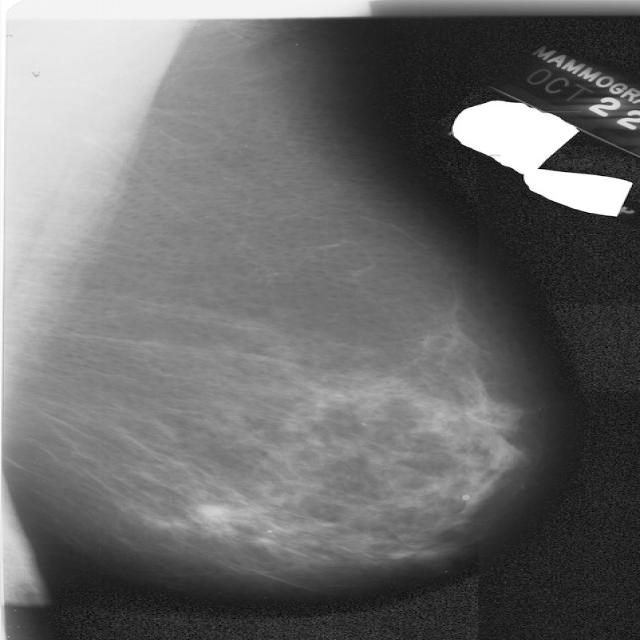tumour: (196, 502, 232, 524)
